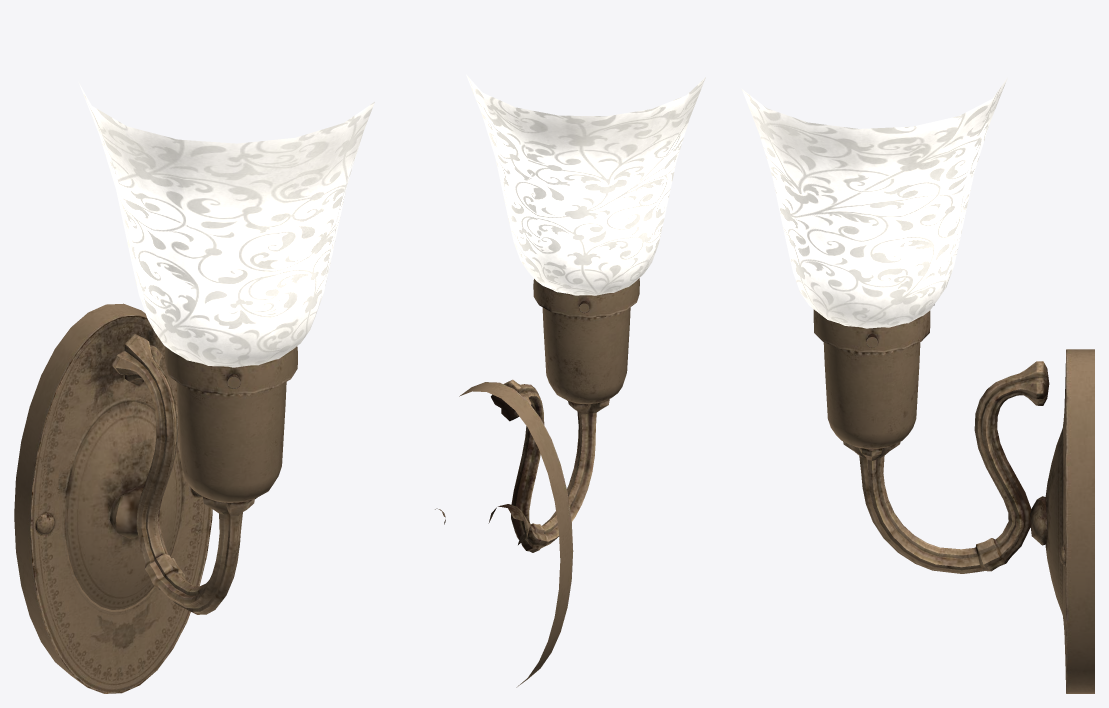
Rendered from wall-lamp.glb.
3 renders of one model, left to right at view 1: azimuth 30°, elevation 25°; view 2: azimuth 150°, elevation 25°; view 3: azimuth 270°, elevation 25°, orthographic. The views are drawn at different scales.
Visible parts, largest first — view 1: LamparaPared2_Material.002_0; view 2: LamparaPared2_Material.002_0; view 3: LamparaPared2_Material.002_0.
Part boxes in pixels (<box>): LamparaPared2_Material.002_0: <box>14,82,374,693</box>; LamparaPared2_Material.002_0: <box>435,74,705,687</box>; LamparaPared2_Material.002_0: <box>741,77,1094,693</box>.
Bounding box in the file's own units: 0.2674 × 0.6704 × 0.3528.
Materials: 1 (1 with a texture image).
